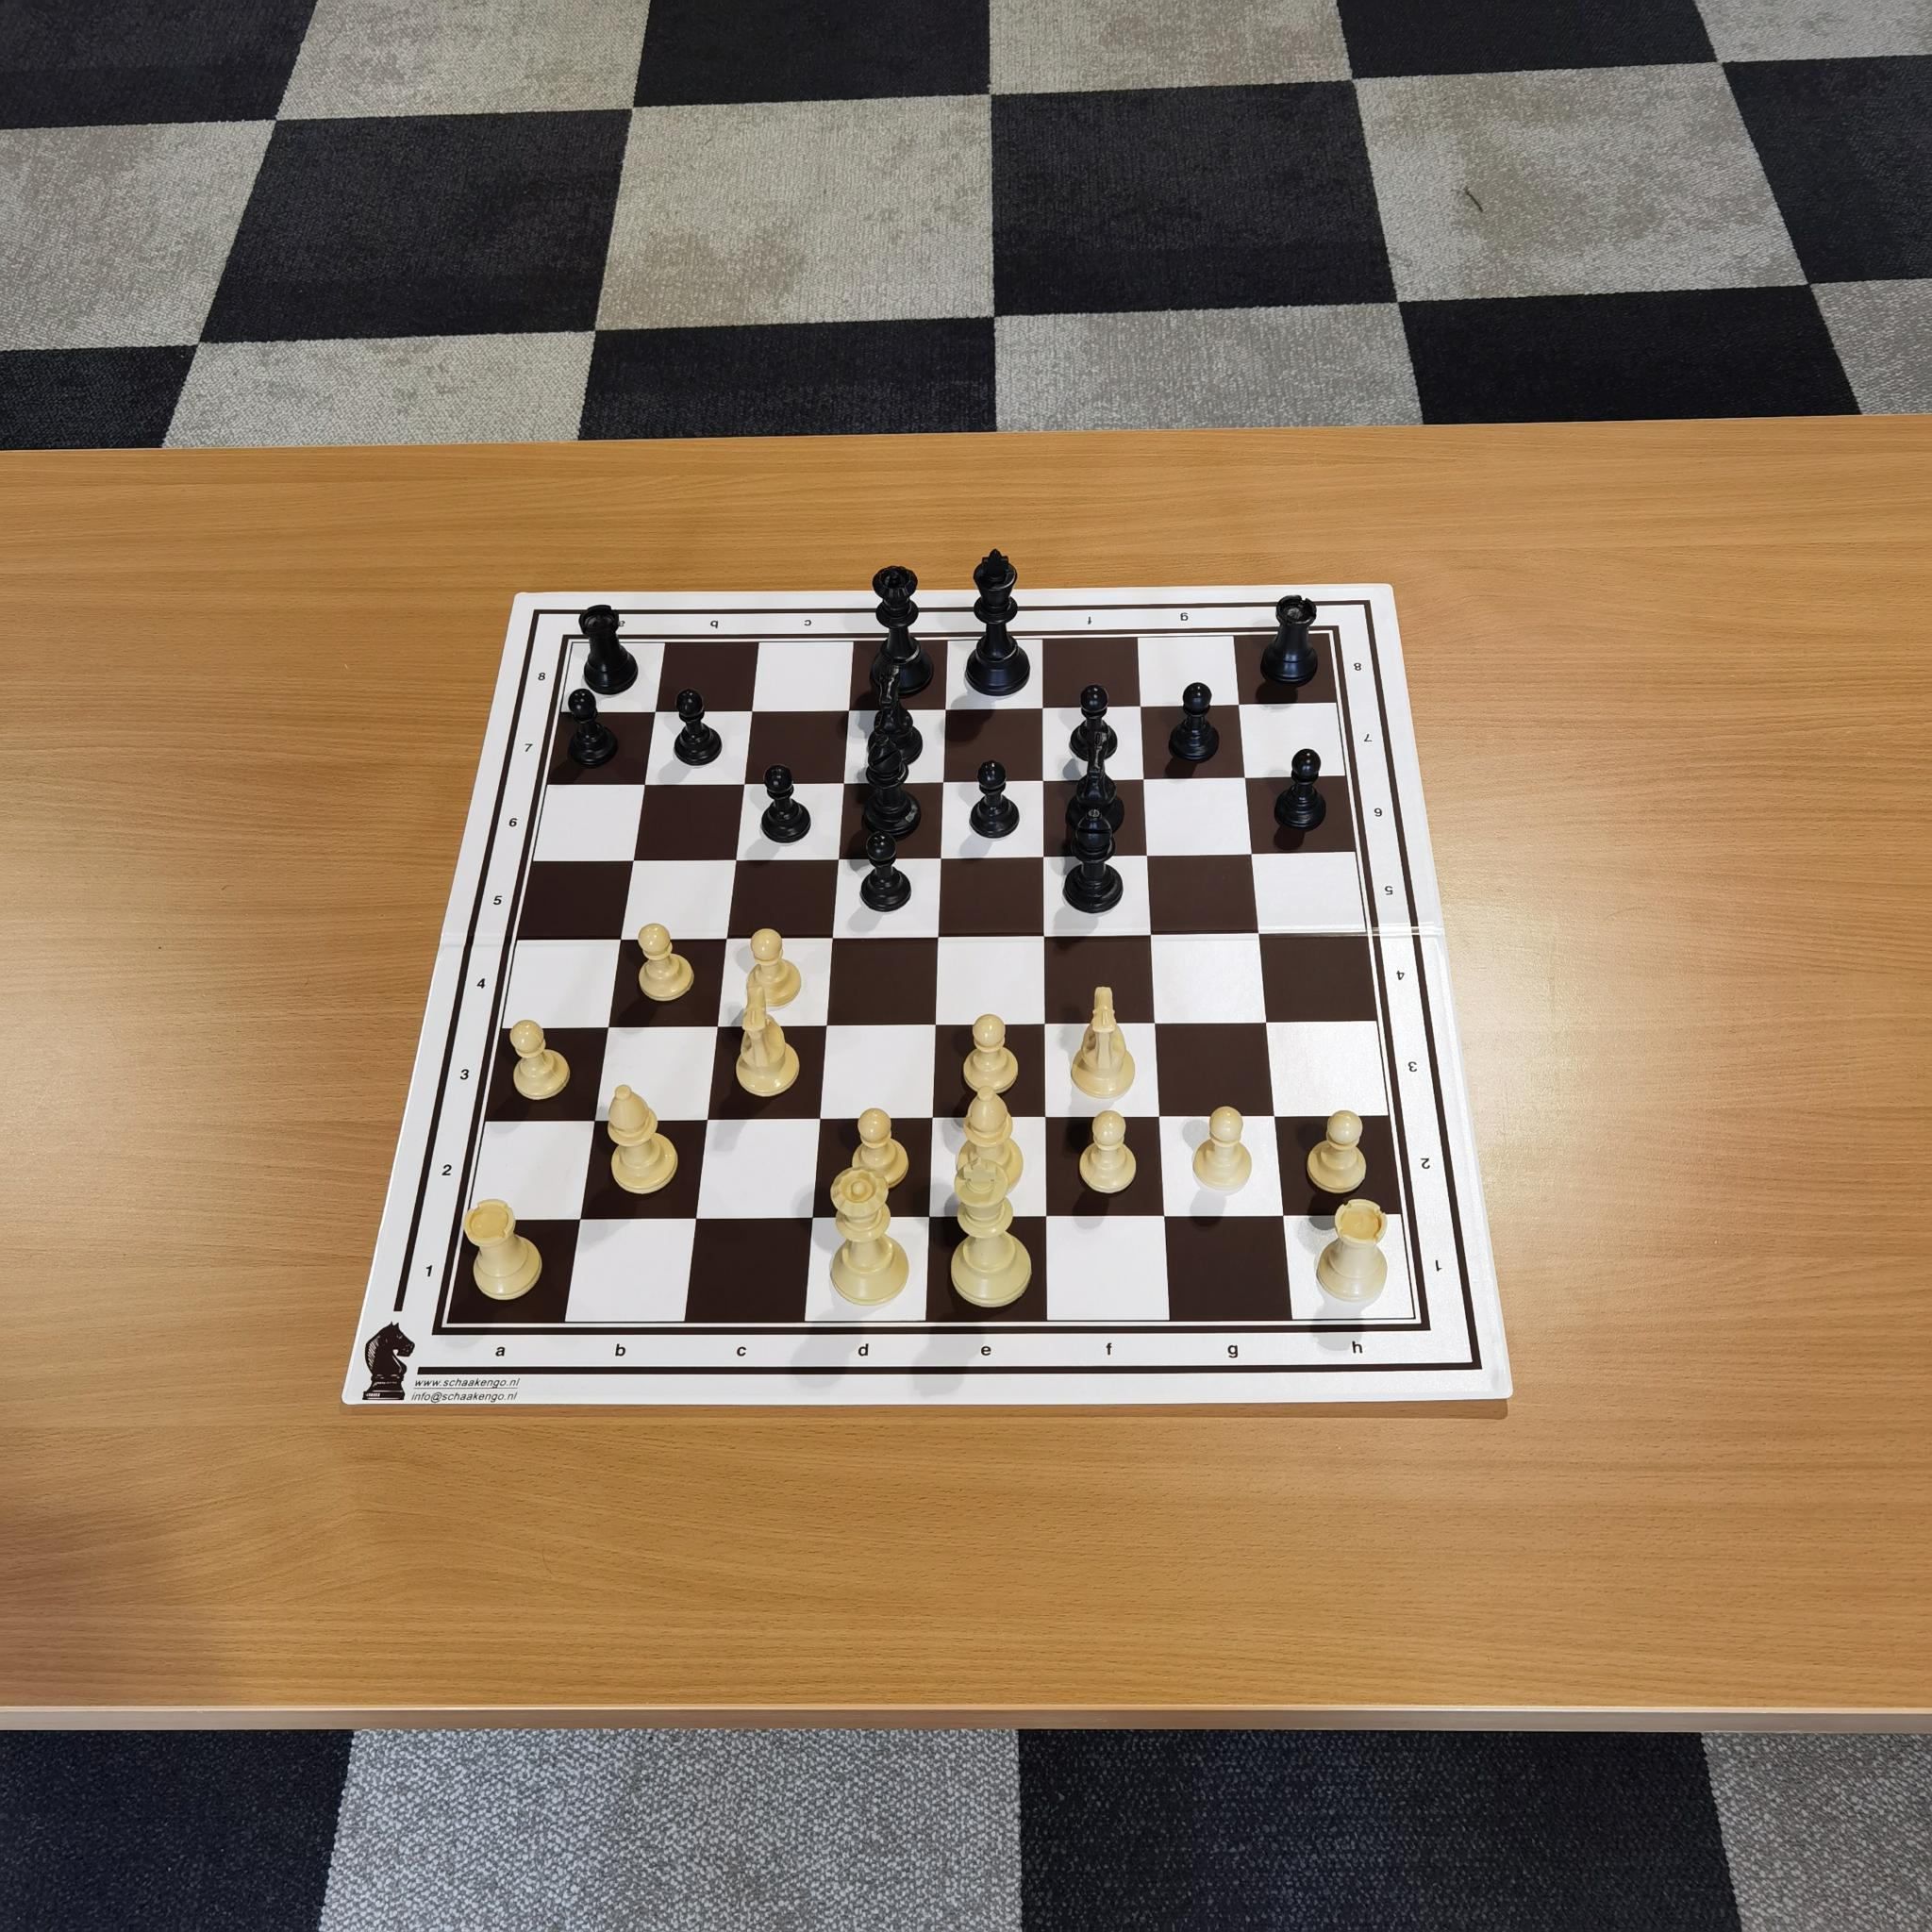corners: (419, 1320, 460, 1364), (1399, 1304, 1438, 1339), (1316, 616, 1355, 648), (552, 628, 584, 658)
eight: (534, 663, 554, 690), (1350, 655, 1368, 676)
one: (410, 1251, 453, 1288), (1424, 1244, 1456, 1283)
